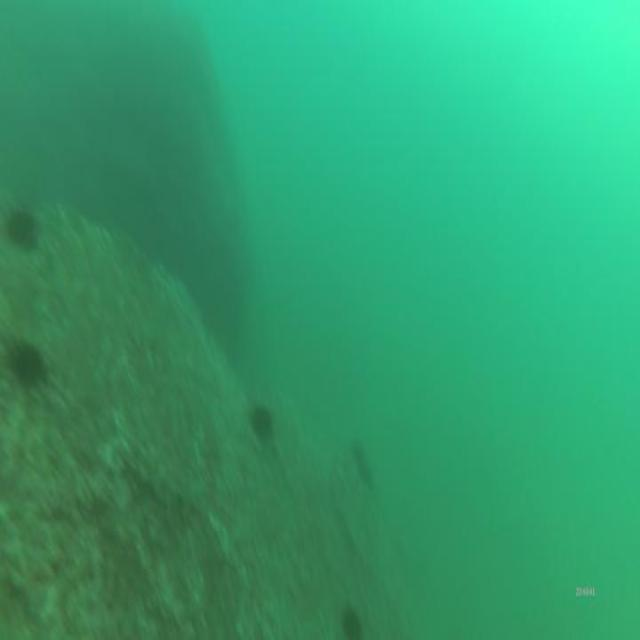echinus: (4, 335, 49, 397), (2, 199, 38, 256), (250, 398, 276, 449), (350, 441, 374, 493), (338, 596, 365, 640)
